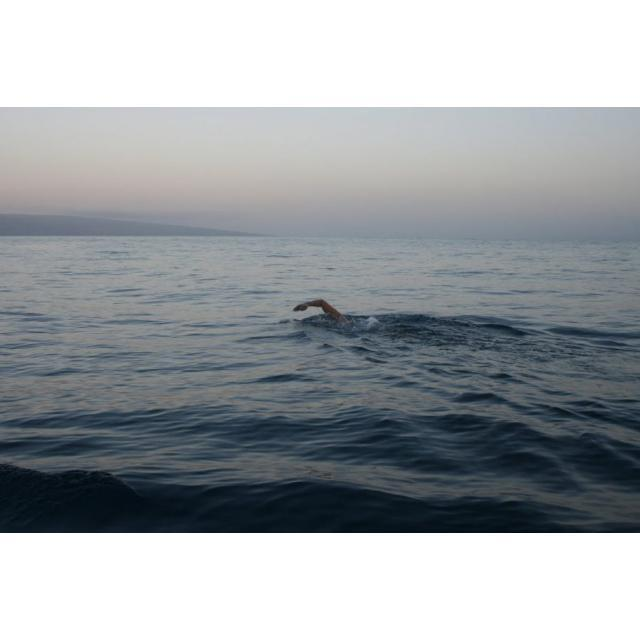human: (290, 294, 383, 330)
